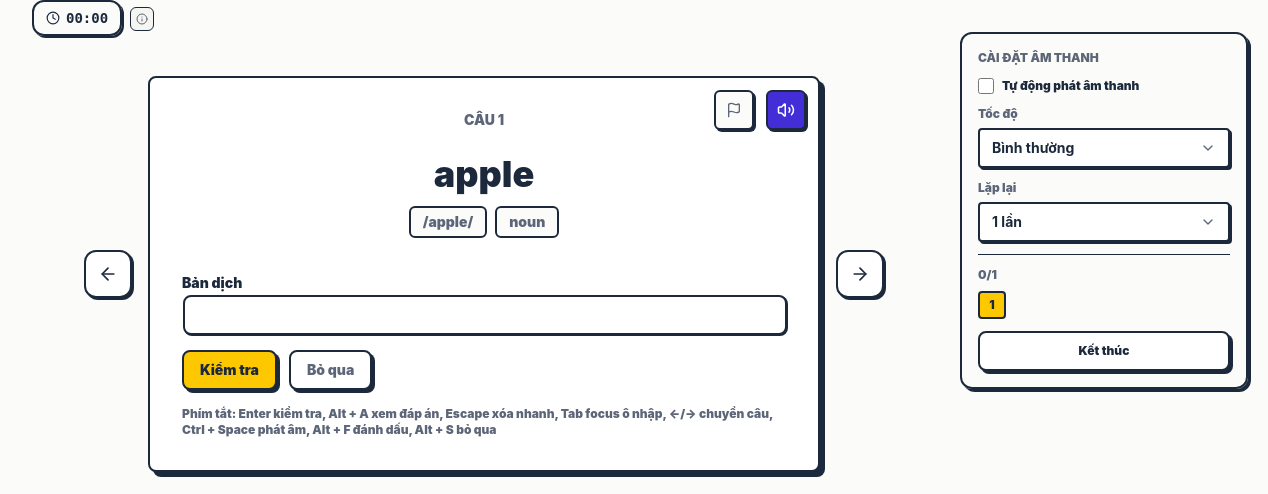
QuizSessionPage › prompts for a translation without exposing the answer and scores a correct entry
Expected: the heading "apple" is shown, 434,152 -> 534,196
Expected: the text "/apple/" is shown, 409,206 -> 487,238
Type "quả táo" into the field labelled "Bản dịch" at (485,315), box 183,295 -> 787,335
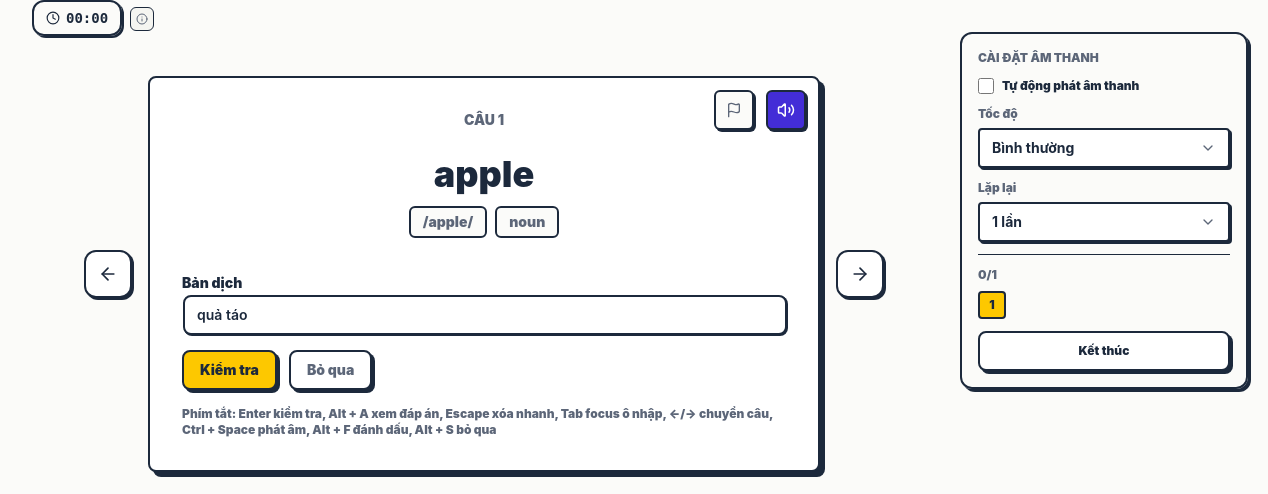
Click the button "Kiểm tra" at (229,370), box 182,350 -> 277,390
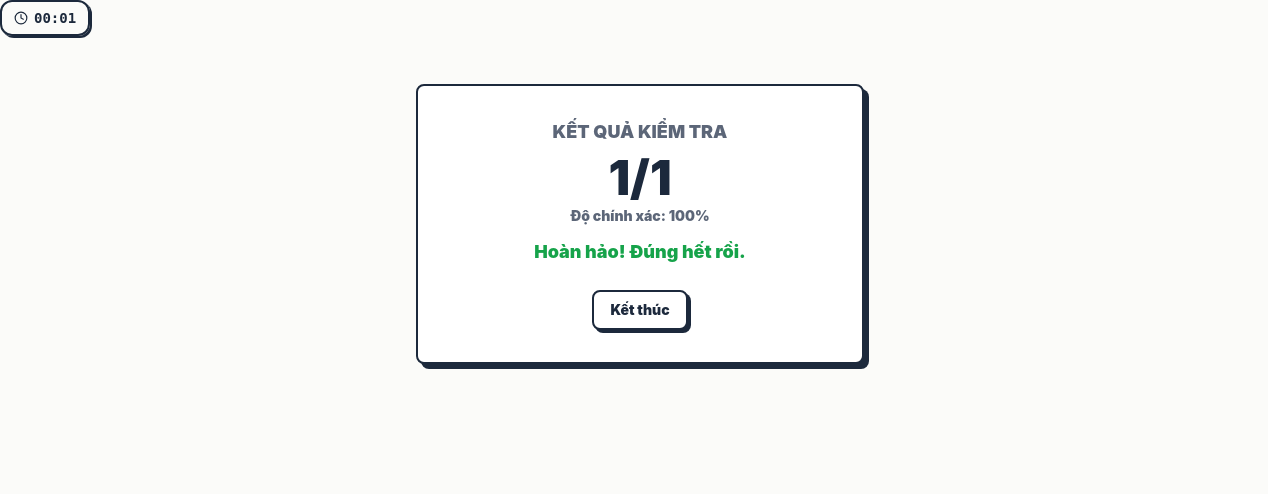
Expected: the button "Kết thúc" is shown, 592,290 -> 688,330
Expected: the text "Kết quả kiểm tra" is shown, 553,121 -> 727,142
Expected: the text "1/1" is shown, 608,148 -> 672,207
